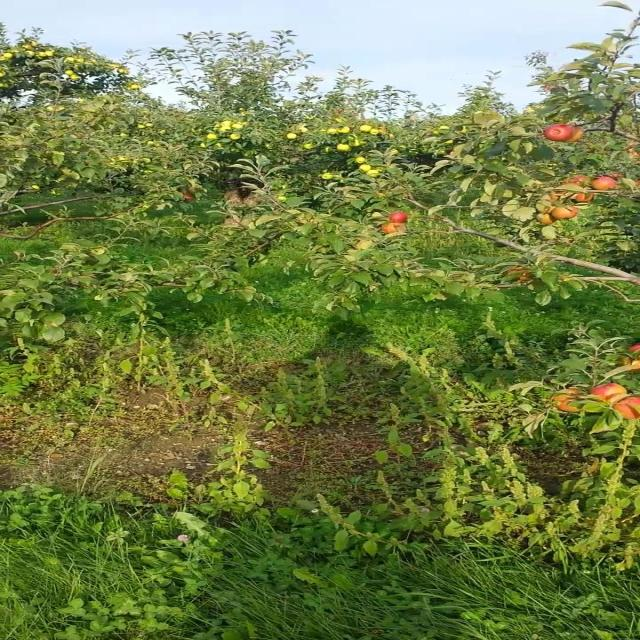apple: (551, 388, 582, 412), (589, 382, 627, 401), (613, 396, 640, 419), (542, 124, 573, 141), (502, 266, 533, 282), (591, 176, 618, 190), (551, 206, 578, 220), (562, 175, 589, 186), (567, 126, 584, 142), (380, 222, 402, 234), (571, 192, 596, 202), (536, 212, 556, 224), (622, 356, 640, 369), (389, 211, 407, 222), (569, 174, 589, 183), (182, 191, 196, 202), (549, 192, 562, 201)
